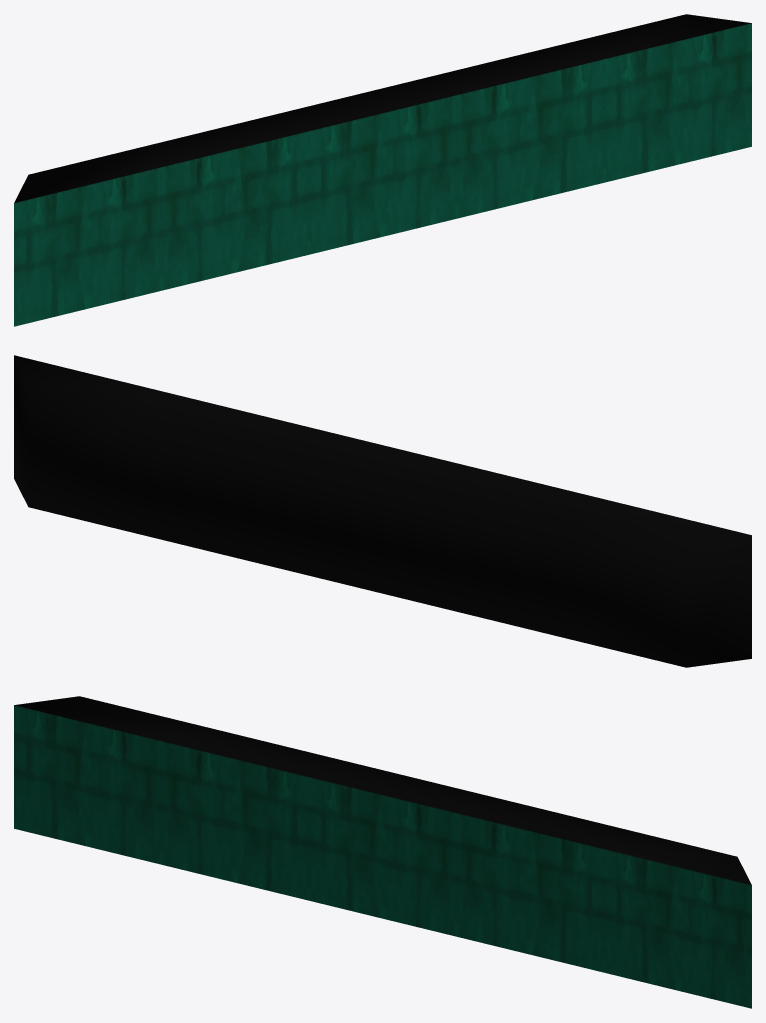
The model's file is Frogames_DP_wall_5.FBX.
The picture shows the model from 3 angles, top to bottom: view 1: azimuth 30°, elevation 25°; view 2: azimuth 150°, elevation 25°; view 3: azimuth 330°, elevation 25°; orthographic projection.
Parts seen in each view (by area): view 1: wall_5; view 2: wall_5; view 3: wall_5.
Boxes of the visible parts, x1,y1,x2,y2 form: wall_5: [14, 14, 751, 326]; wall_5: [14, 355, 751, 667]; wall_5: [14, 696, 751, 1008].
Size of the model in its own units: 50 by 3 by 8.
